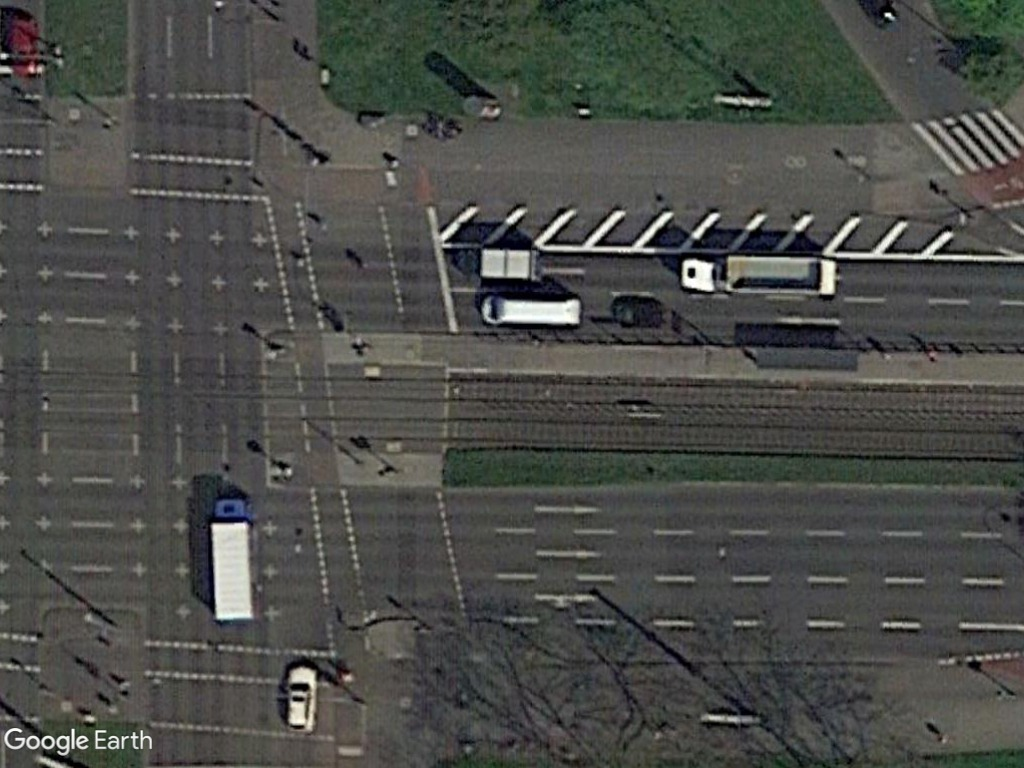car: (276, 653, 325, 739)
other: (675, 249, 843, 305)
truck: (200, 490, 263, 628)
van: (476, 293, 588, 336)
